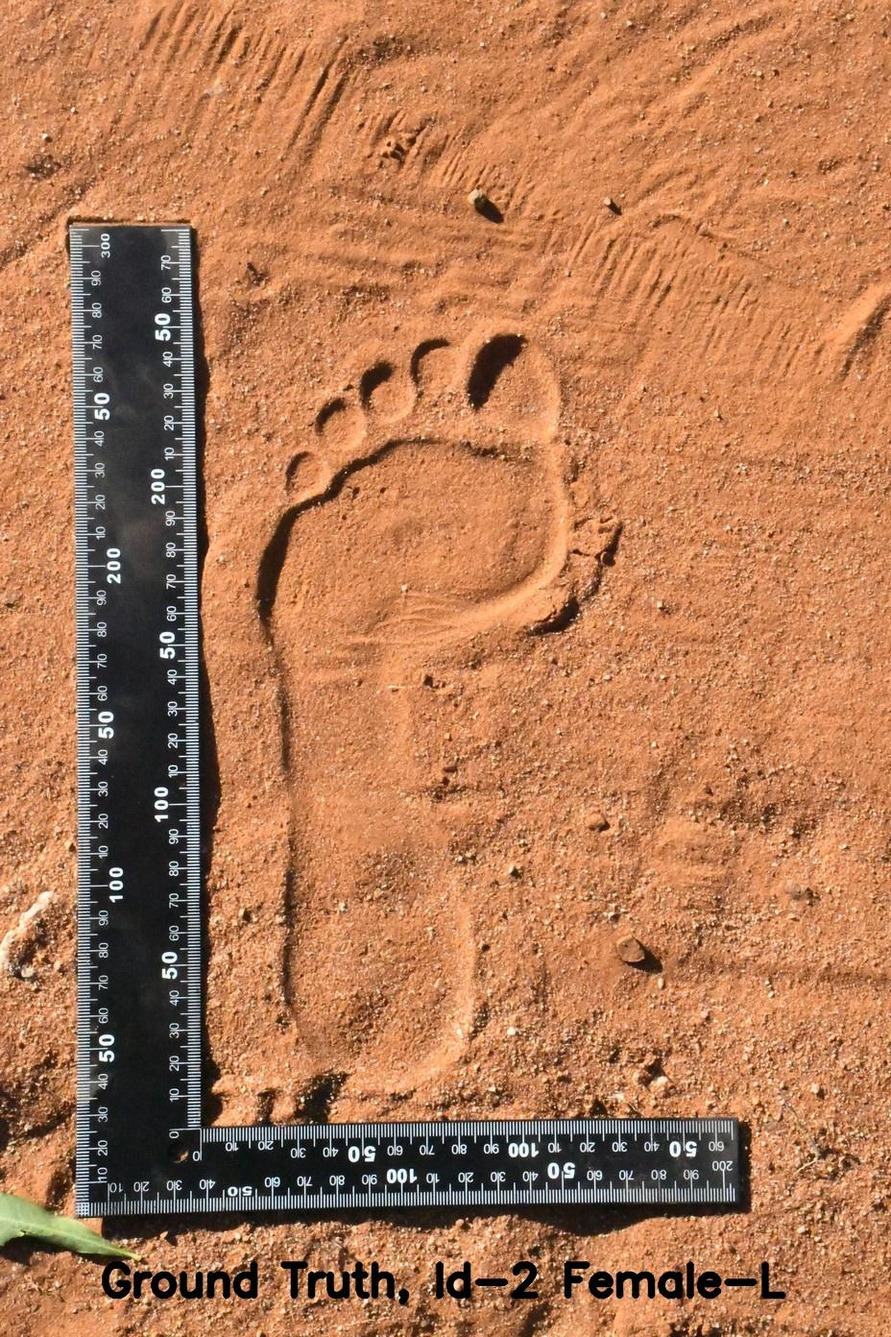human_foot_print: (230, 292, 599, 1107)
